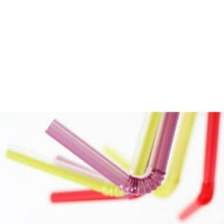drinking_straw: (39, 111, 184, 199)
